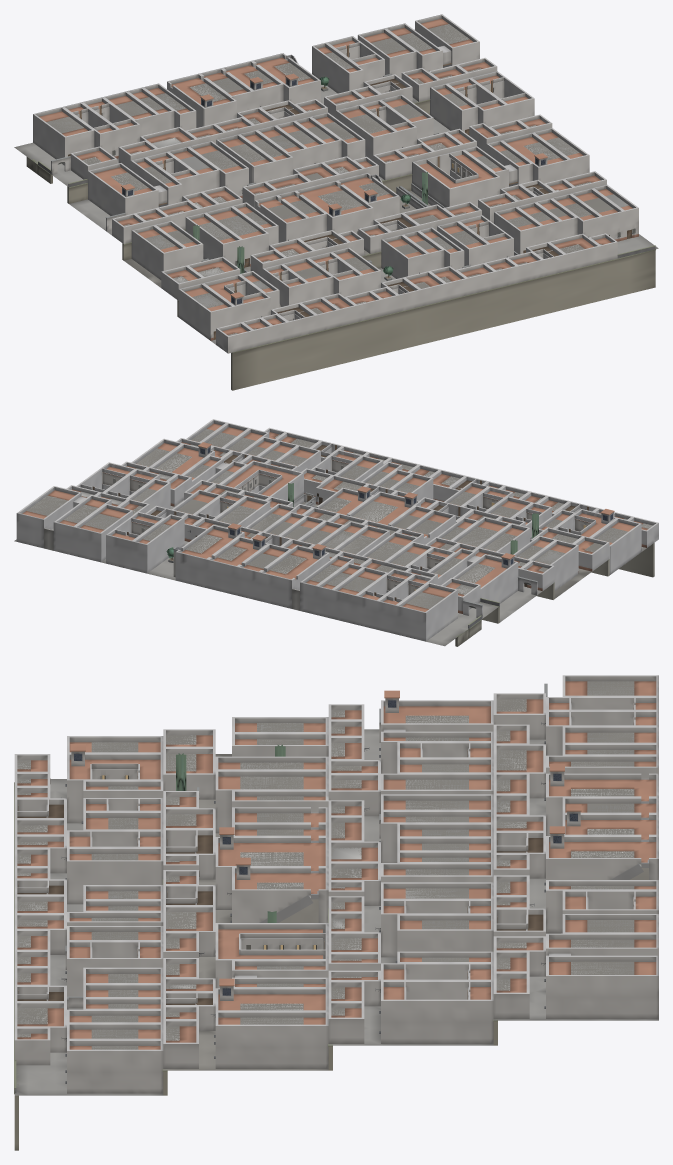
File: judiaria_lo.glb
3 renders of one model, top to bottom at view 1: azimuth 30°, elevation 25°; view 2: azimuth 150°, elevation 25°; view 3: azimuth 270°, elevation 25°, orthographic. The views are drawn at different scales.
Parts seen in each view (by area): view 1: judiaria_south_1, judiaria_2_corral, judiaria_3_n_65, judiaria_4_n_99, judiaria_2_n_43, judiaria_4_n_105, judiaria_1_n_1, judiaria_2_n_36, judiaria_4_n_113, judiaria_4_n_108, judiaria_1_n_2, judiaria_2_n_47 (+96 smaller); view 2: judiaria_4_n_99, judiaria_4_n_105, judiaria_4_n_108, judiaria_4_n_113, judiaria_3_n_65, judiaria_2_corral, judiaria_4_n_109, judiaria_4_n_107, judiaria_4_n_111, judiaria_4_n_110, judiaria_1_n_1, judiaria_4_n_112 (+68 smaller); view 3: judiaria_3_n_81, judiaria_4_n_113, judiaria_2_n_48, judiaria_1_n_18, judiaria_4_n_108, judiaria_2_corral, judiaria_2_n_44, judiaria_2_n_43, judiaria_1_n_7, judiaria_3_n_65, judiaria_3_n_78, judiaria_1_n_2 (+106 smaller).
Part boxes in pixels (<box>): judiaria_south_1: <box>231,249,655,390</box>; judiaria_2_corral: <box>412,149,500,207</box>; judiaria_3_n_65: <box>88,163,167,215</box>; judiaria_4_n_99: <box>33,107,94,165</box>; judiaria_2_n_43: <box>295,180,373,234</box>; judiaria_4_n_105: <box>167,73,236,127</box>; judiaria_1_n_1: <box>178,283,234,340</box>; judiaria_2_n_36: <box>131,225,185,279</box>; judiaria_4_n_113: <box>415,14,479,67</box>; judiaria_4_n_108: <box>252,53,320,103</box>; judiaria_1_n_2: <box>202,274,270,323</box>; judiaria_2_n_47: <box>501,132,569,183</box>; judiaria_4_n_99: <box>396,582,457,641</box>; judiaria_4_n_105: <box>259,544,329,608</box>; judiaria_4_n_108: <box>175,523,244,587</box>; judiaria_4_n_113: <box>16,486,81,548</box>; judiaria_3_n_65: <box>453,553,518,603</box>; judiaria_2_corral: <box>220,460,303,500</box>; judiaria_4_n_109: <box>132,514,184,573</box>; judiaria_4_n_107: <box>207,534,268,595</box>; judiaria_4_n_111: <box>74,504,132,562</box>; judiaria_4_n_110: <box>106,511,164,569</box>; judiaria_1_n_1: <box>591,518,641,574</box>; judiaria_4_n_112: <box>53,495,111,555</box>; judiaria_3_n_81: <box>379,980,493,1043</box>; judiaria_4_n_113: <box>544,955,658,1018</box>; judiaria_2_n_48: <box>214,1011,328,1068</box>; judiaria_1_n_18: <box>65,1040,163,1093</box>; judiaria_4_n_108: <box>544,826,658,892</box>; judiaria_2_corral: <box>215,923,328,988</box>; judiaria_2_n_44: <box>230,857,328,922</box>; judiaria_2_n_43: <box>215,827,328,909</box>; judiaria_1_n_7: <box>67,848,163,904</box>; judiaria_3_n_65: <box>379,690,493,757</box>; judiaria_3_n_78: <box>395,914,493,963</box>; judiaria_1_n_2: <box>67,744,163,823</box>.
Size of the model in its own units: 136 by 37.3 by 117.
